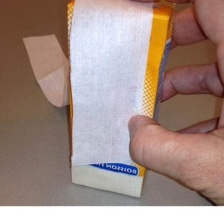carton: (63, 0, 178, 202)
